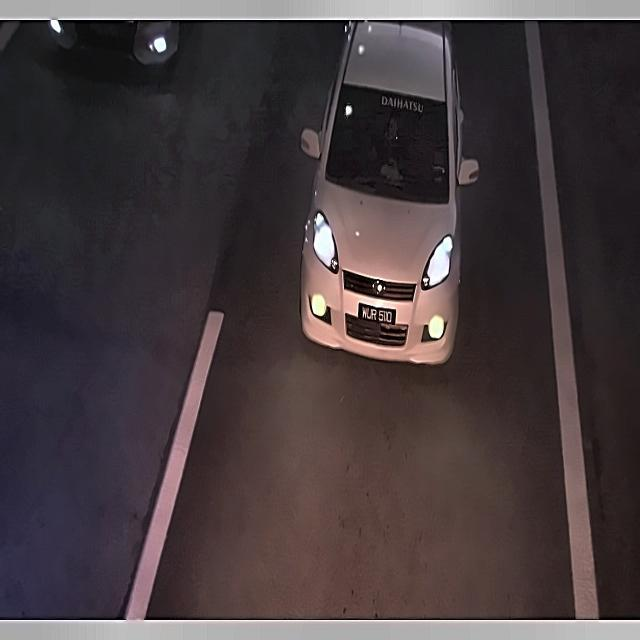car: (356, 295, 401, 336)
